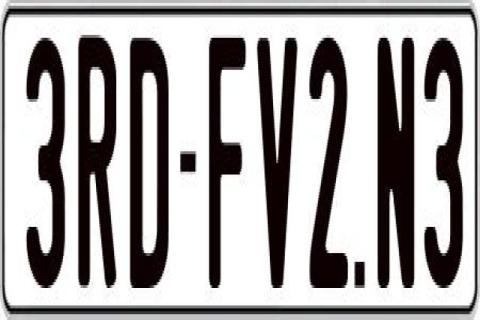0: (422, 38, 464, 297), (25, 32, 66, 296), (310, 35, 348, 297)
D: (130, 38, 168, 294)
F: (207, 35, 248, 303)
N: (377, 38, 419, 306)
R: (78, 27, 121, 286)
V: (254, 32, 297, 285)
